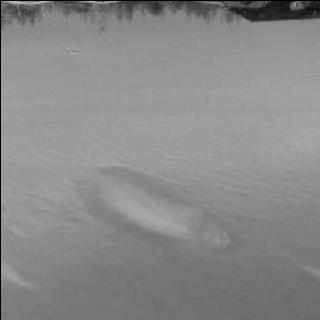Cirrocumulus: (0, 23, 320, 320)
